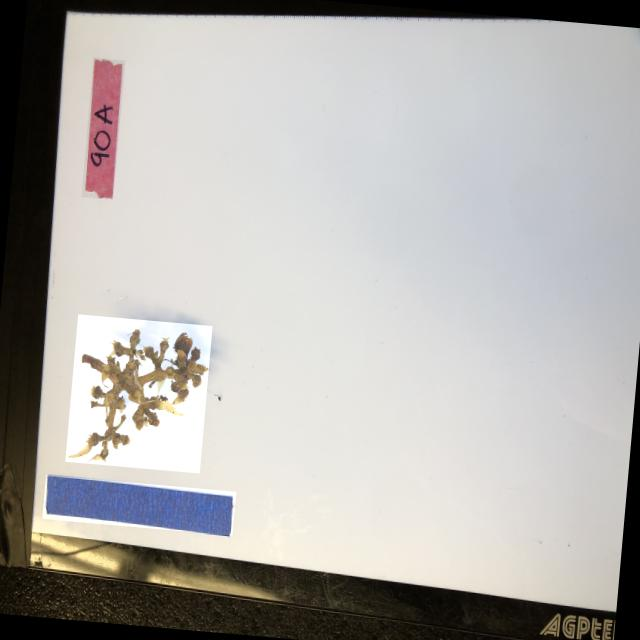index: (81, 56, 125, 198)
measure_label: (42, 474, 236, 534)
rachis_cluster: (65, 313, 212, 472)
